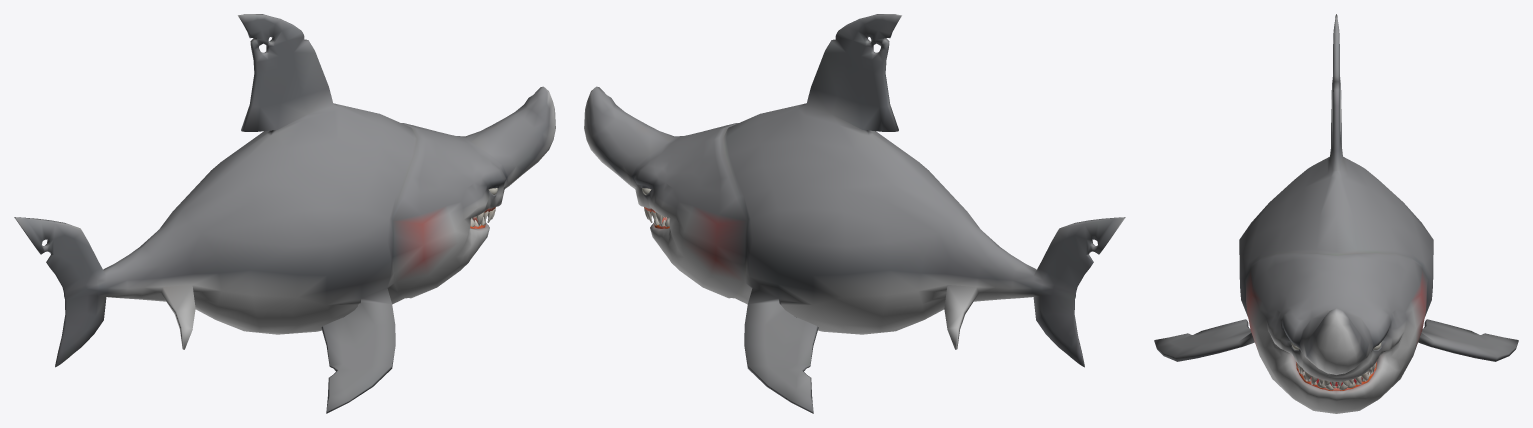
File: fish-ca-map.glb
The picture shows the model from 3 angles, left to right: view 1: azimuth 30°, elevation 25°; view 2: azimuth 150°, elevation 25°; view 3: azimuth 270°, elevation 25°; orthographic projection.
Parts seen in each view (by area): view 1: body; view 2: body; view 3: body.
Part boxes in pixels (left/top/right/bottom): body: left=14, top=14, right=555, bottom=413; body: left=584, top=14, right=1125, bottom=413; body: left=1154, top=14, right=1518, bottom=413.
Bounding box in the file's own units: 1 × 0.5872 × 0.5887.
